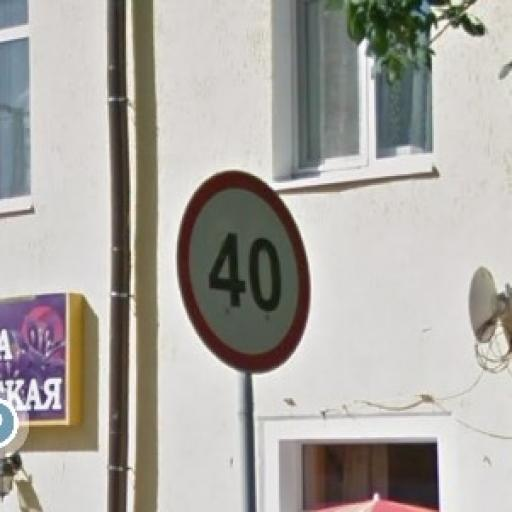traffic_sign: (176, 167, 314, 375)
